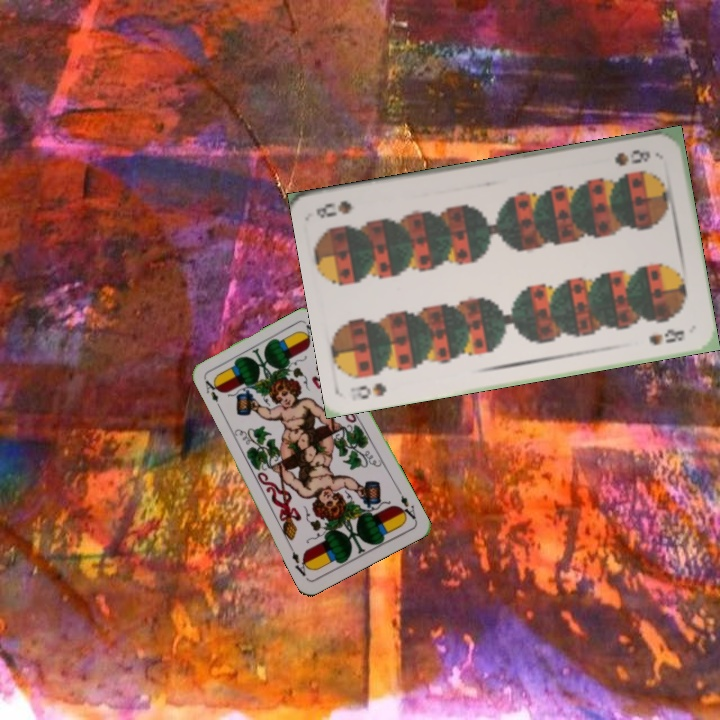EA: (395, 491, 419, 523), (201, 376, 221, 405)
S8: (346, 378, 389, 403), (610, 145, 653, 169)
